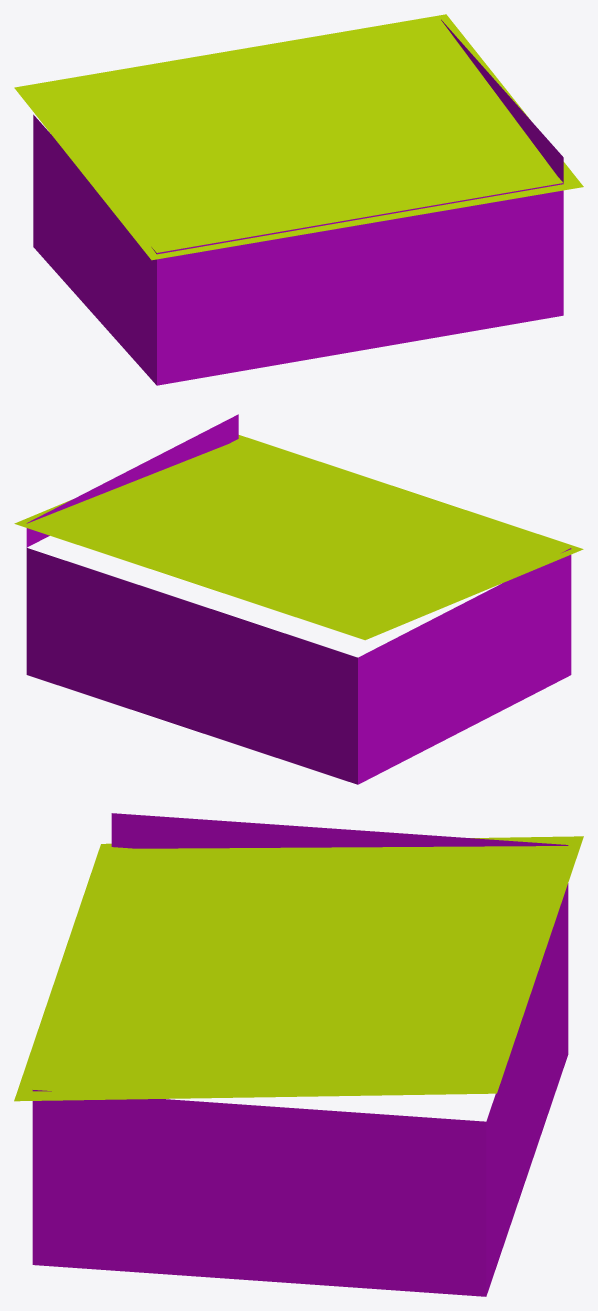
File: bgj_175.glb
3 renders of one model, top to bottom at view 1: azimuth 30°, elevation 25°; view 2: azimuth 150°, elevation 25°; view 3: azimuth 270°, elevation 25°, orthographic. The views are drawn at different scales.
Visible parts, largest first — view 1: bgj_175; view 2: bgj_175; view 3: bgj_175.
Part boxes in pixels (<box>): bgj_175: <box>14,14,583,385</box>; bgj_175: <box>14,414,583,784</box>; bgj_175: <box>14,813,583,1296</box>.
Size of the model in its own units: 21.74 by 7.4 by 18.28.
